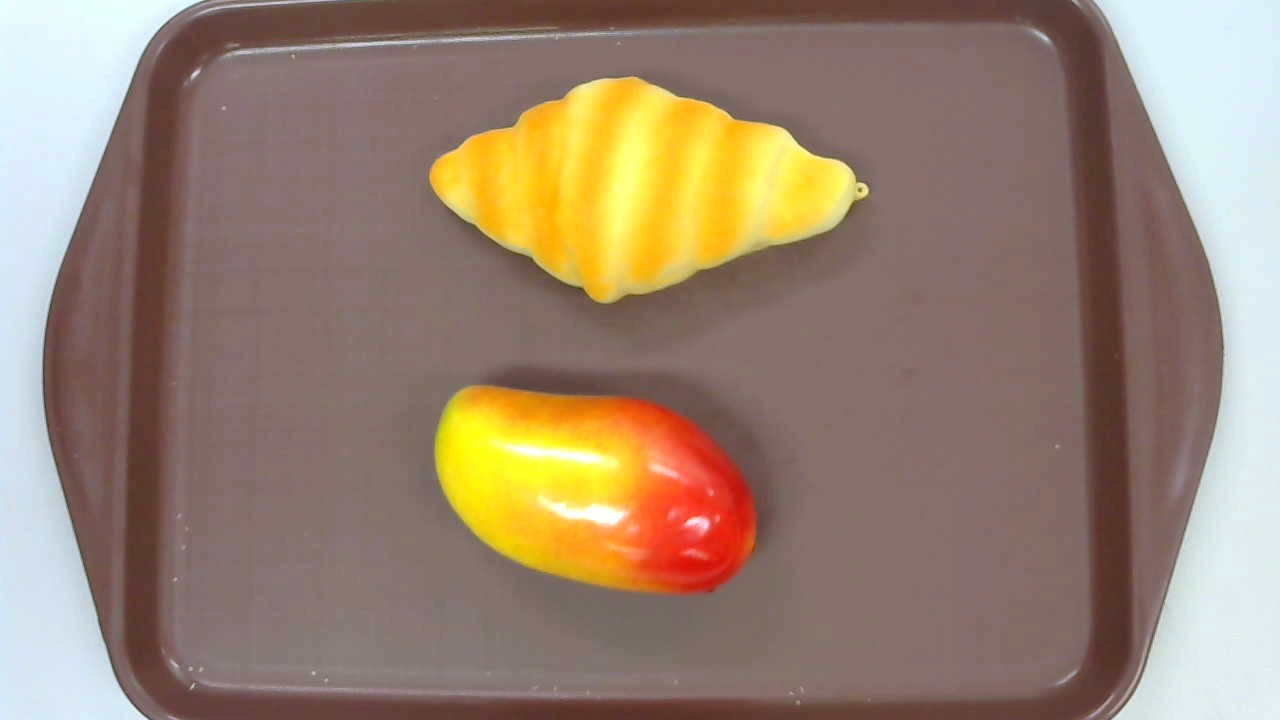croissant: (429, 76, 868, 303)
red mango: (434, 384, 758, 597)
